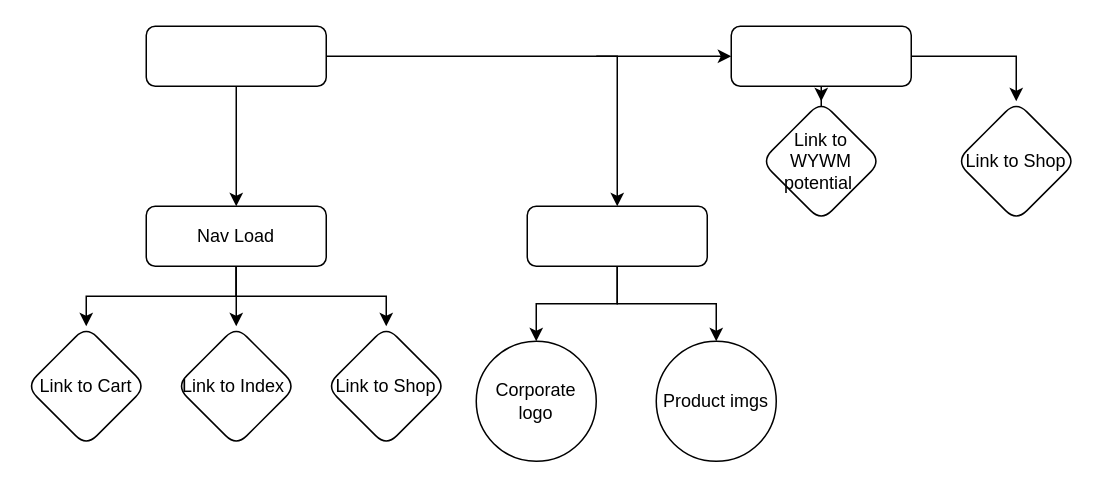
This 1103x488 diagram has some shape labels left out. The shapes that lost their labels are listed below. From the top down, each one's centre as x and y in pixels, then its label:
(235,55): Page load
(820,55): Load text
(616,235): Load carousel
